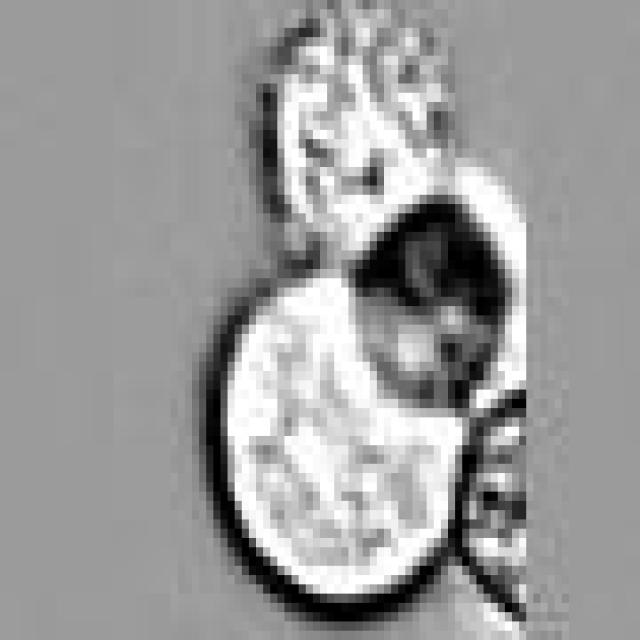Cancer Cell: (220, 260, 477, 603)
WBC: (270, 9, 455, 260), (356, 204, 512, 408), (462, 380, 534, 631)
